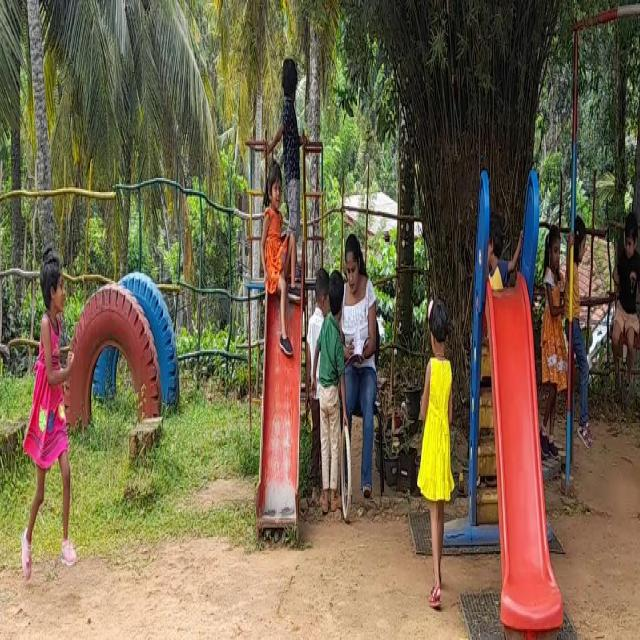adult: (339, 222, 385, 502)
child: (25, 240, 80, 573), (415, 290, 454, 604), (257, 157, 298, 344), (566, 193, 595, 438), (610, 190, 640, 397), (311, 256, 338, 465), (542, 205, 558, 441)
